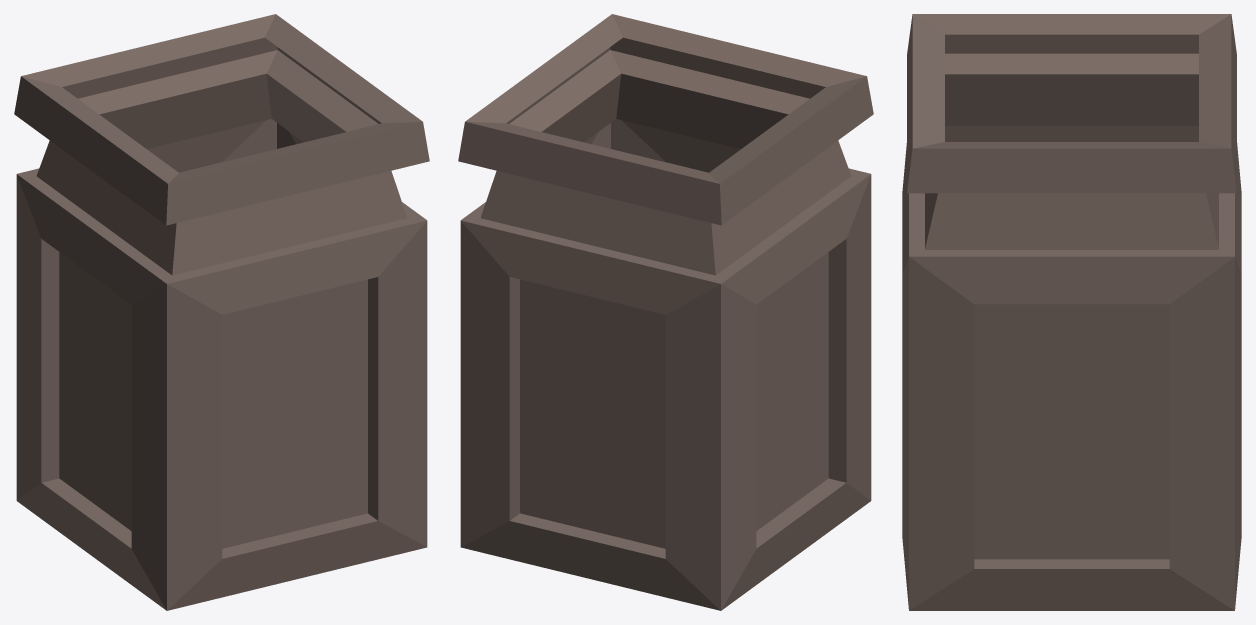
The model's file is bottom_cube_pillar.fbx.
3 renders of one model, left to right at view 1: azimuth 30°, elevation 25°; view 2: azimuth 150°, elevation 25°; view 3: azimuth 270°, elevation 25°, orthographic. The views are drawn at different scales.
Visible parts, largest first — view 1: bottom_cube_pillar; view 2: bottom_cube_pillar; view 3: bottom_cube_pillar.
Part boxes in pixels (<box>): bottom_cube_pillar: <box>14,14,429,610</box>; bottom_cube_pillar: <box>458,14,873,610</box>; bottom_cube_pillar: <box>902,14,1241,610</box>.
Bounding box in the file's own units: 121 × 181 × 121.
